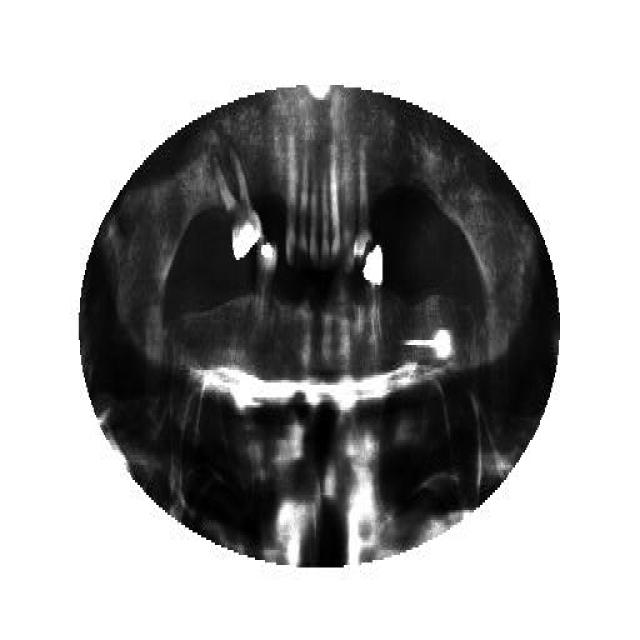Fillings: (214, 152, 262, 262), (255, 235, 277, 347), (362, 245, 383, 357)
